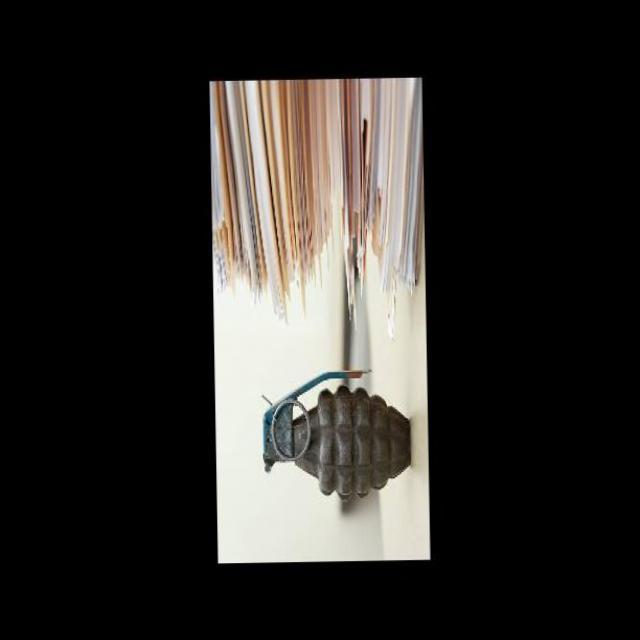grenade: (259, 344, 426, 509)
